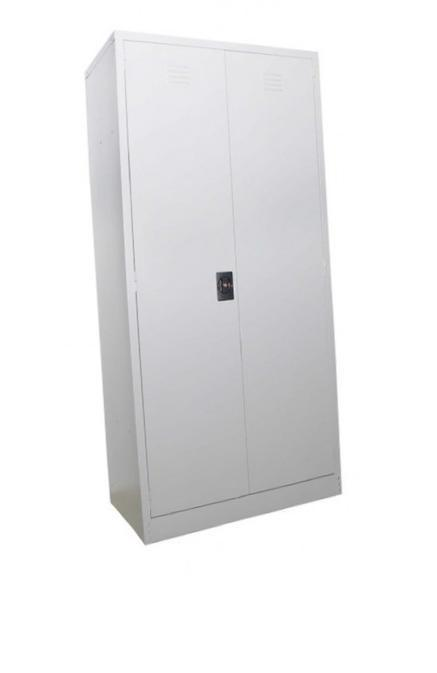Armario: (79, 38, 349, 541)
